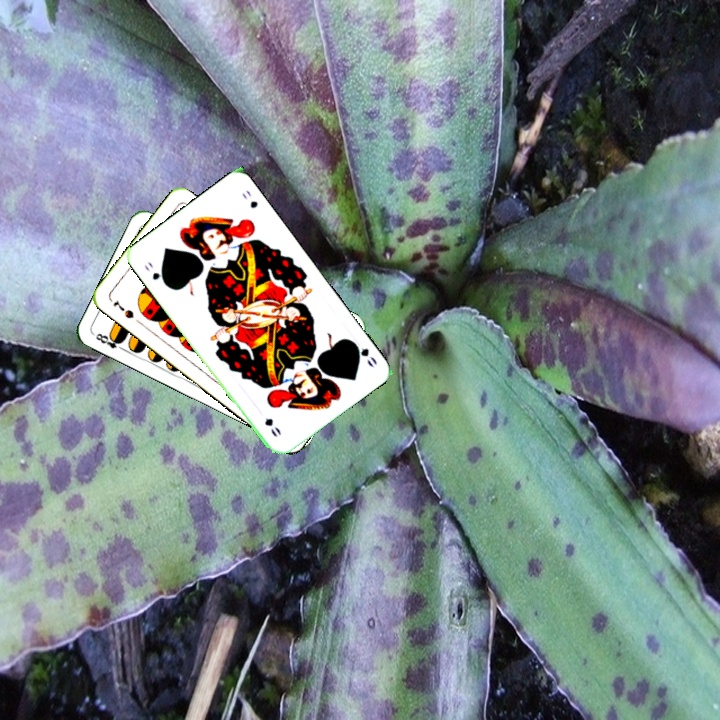E8: (92, 329, 128, 354)
GO: (347, 337, 380, 370), (140, 258, 170, 288)
S7: (109, 295, 136, 321)
